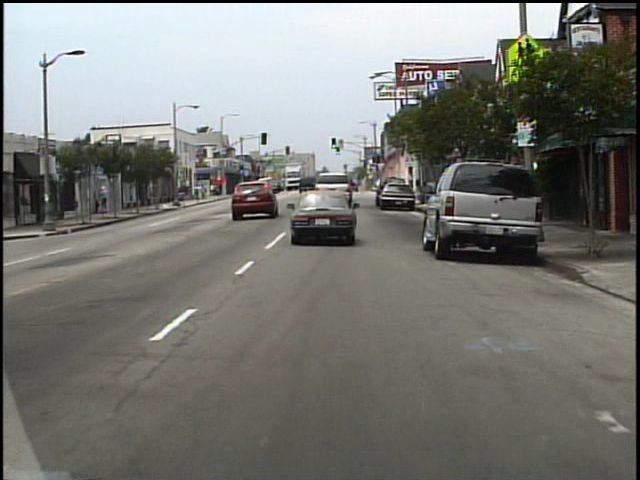person: (102, 185, 114, 214)
